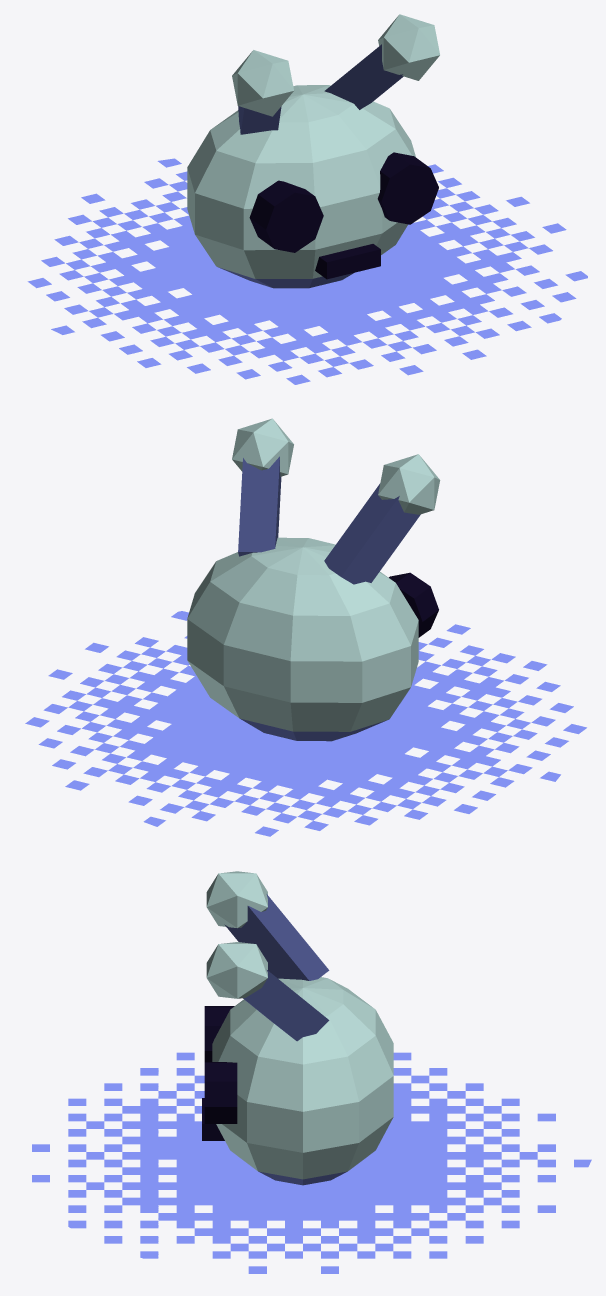
The model's file is head.glb.
3 views of the same model, one above another, from view 1: azimuth 30°, elevation 25°; view 2: azimuth 150°, elevation 25°; view 3: azimuth 270°, elevation 25° (orthographic).
Visible parts, largest first — view 1: Head; view 2: Head; view 3: Head.
Part boxes in pixels (x1,y1,x2,y2): Head: (27, 14, 587, 384); Head: (25, 418, 586, 836); Head: (32, 871, 591, 1273).
Size of the model in its own units: 1.12 by 0.5631 by 1.12.
Materials: 4 (1 with a texture image).
